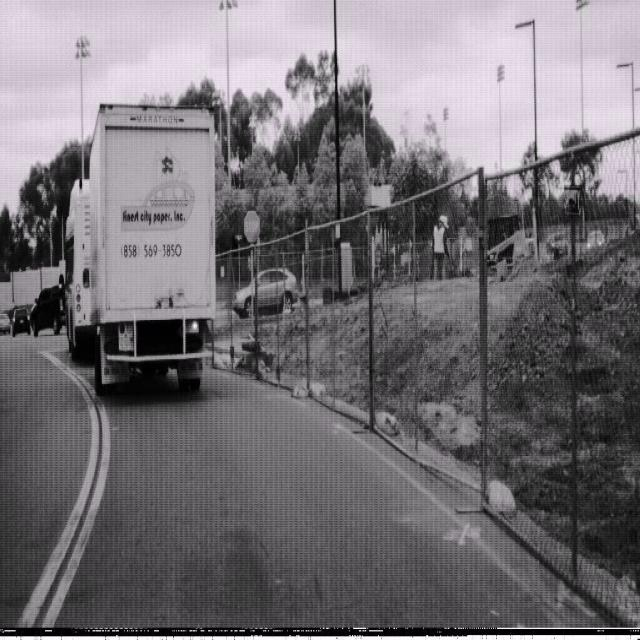stop_sign: (243, 208, 260, 243)
